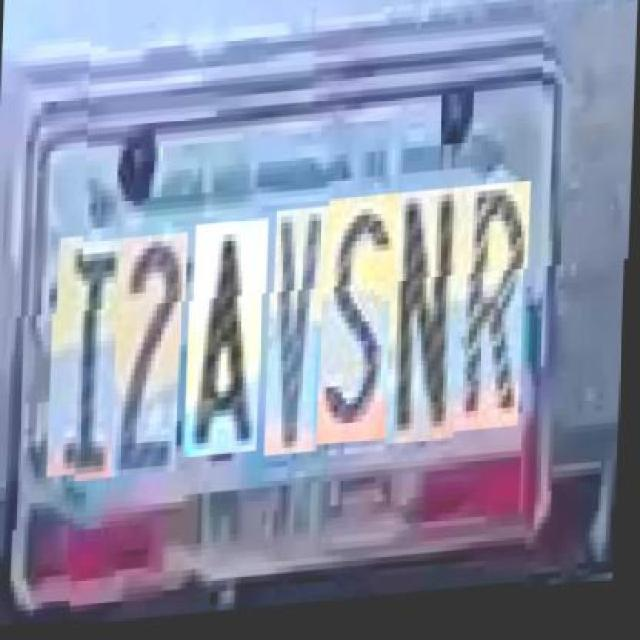2: (119, 236, 190, 479)
a: (191, 224, 271, 461)
i: (54, 241, 124, 484)
n: (393, 196, 469, 452)
r: (460, 192, 532, 440)
s: (325, 200, 400, 452)
v: (272, 214, 332, 461)
